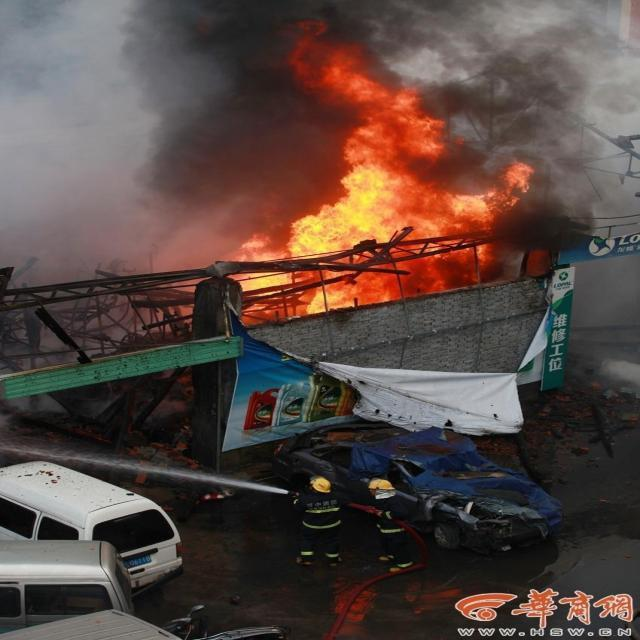Fire: (233, 21, 528, 329)
Smoke: (1, 0, 282, 232), (442, 0, 640, 161)
